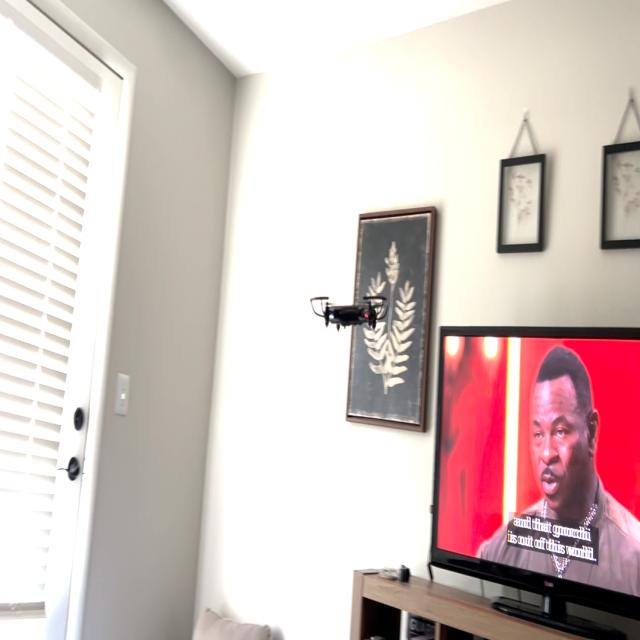drone: (308, 276, 390, 339)
